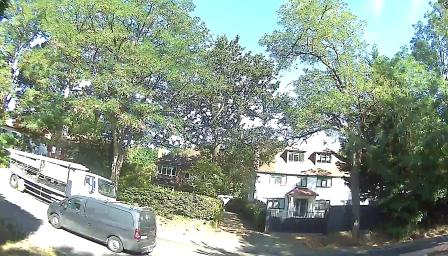Cars: (54, 190, 160, 252)
truck: (7, 138, 127, 217)
